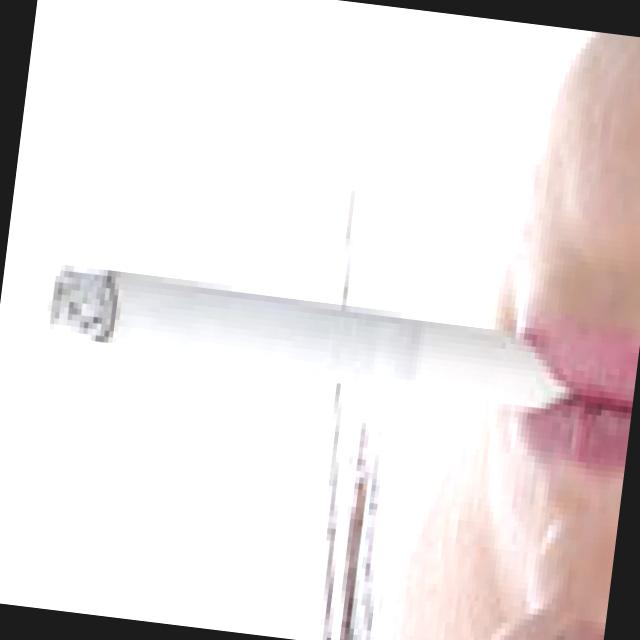cigarette: (36, 250, 560, 420)
